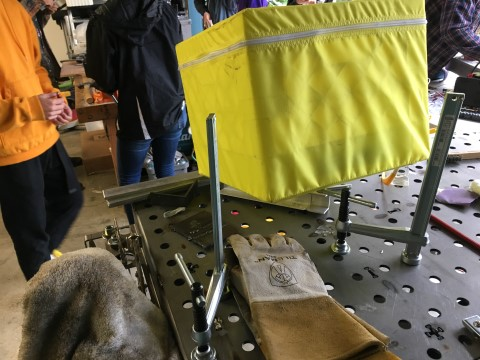cube: (177, 1, 432, 203)
